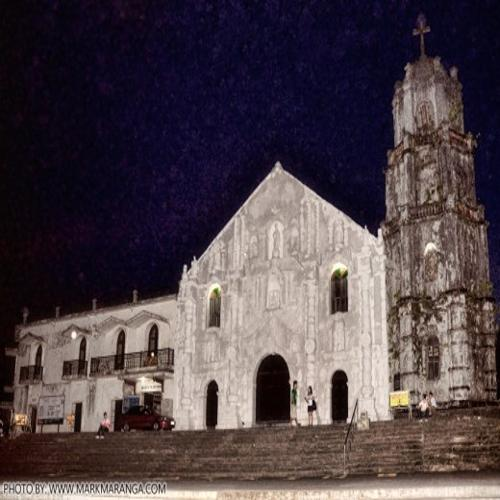Daraga Church: (172, 23, 498, 423)
